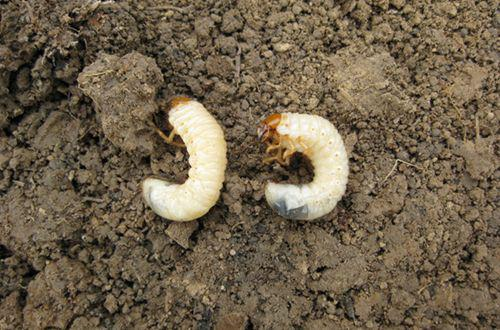grub: (256, 112, 357, 234)
